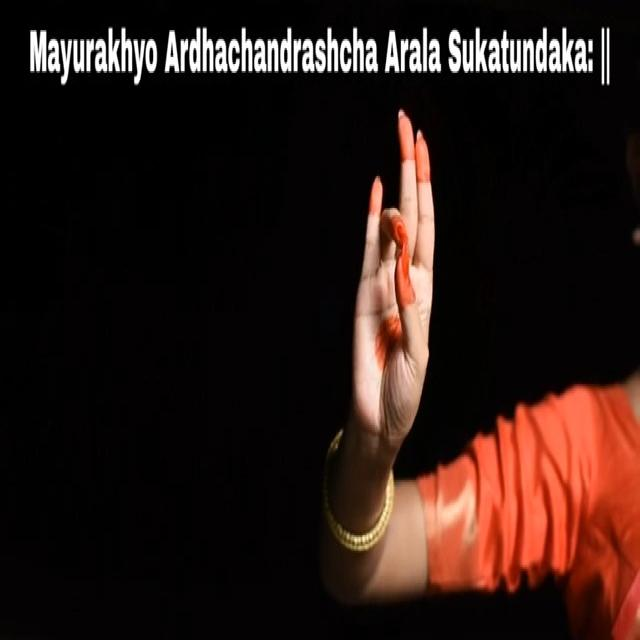Mayura: (348, 106, 445, 438)
bangle: (314, 465, 401, 568)
text: (21, 5, 618, 97)
